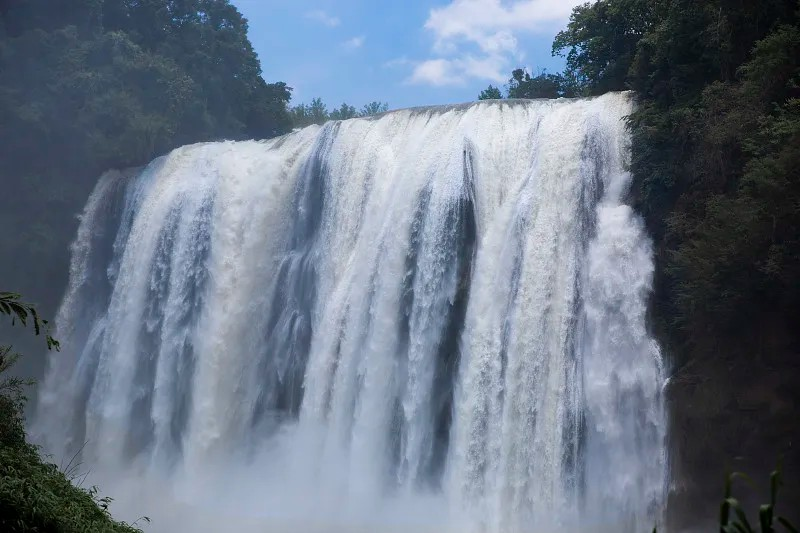Huangguoshu: (36, 90, 670, 533)
